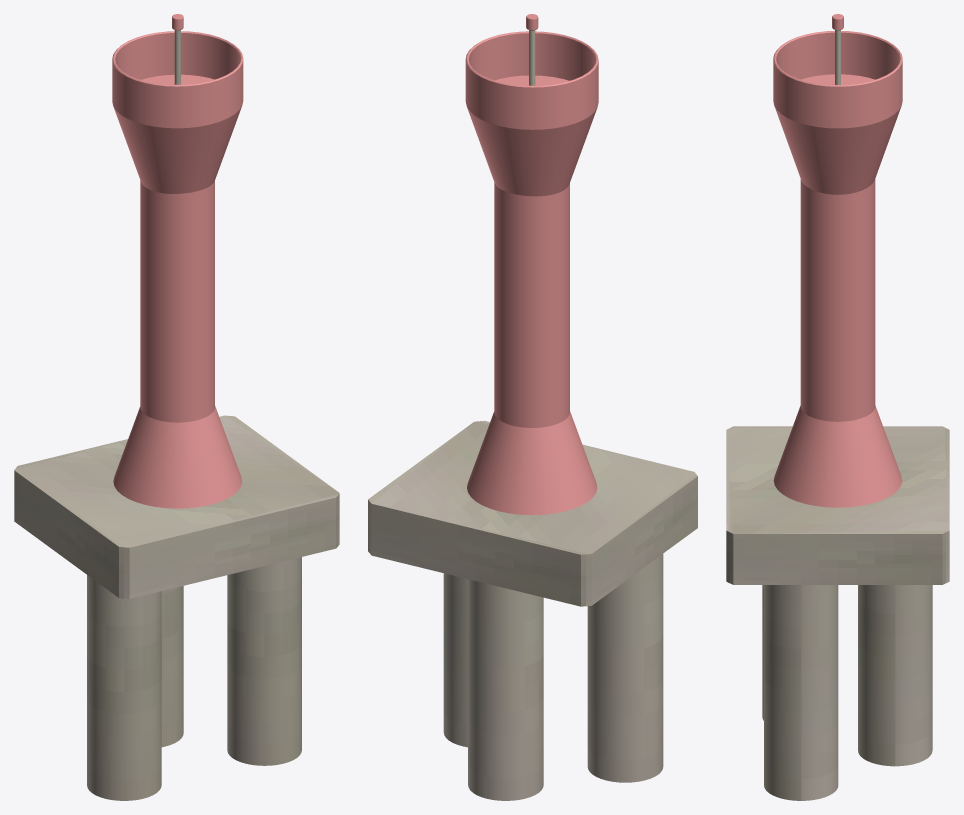
The model's file is hangbiao.gltf.
The picture shows the model from 3 angles, left to right: view 1: azimuth 30°, elevation 25°; view 2: azimuth 150°, elevation 25°; view 3: azimuth 270°, elevation 25°; orthographic projection.
Parts seen in each view (by area): view 1: hangbiao; view 2: hangbiao; view 3: hangbiao.
Part boxes in pixels (x1,y1,x2,y2): hangbiao: (14,14,339,800); hangbiao: (368,14,697,800); hangbiao: (726,14,949,800).
Size of the model in its own units: 589 by 1878 by 517.
Materials: 2 (1 with a texture image).
